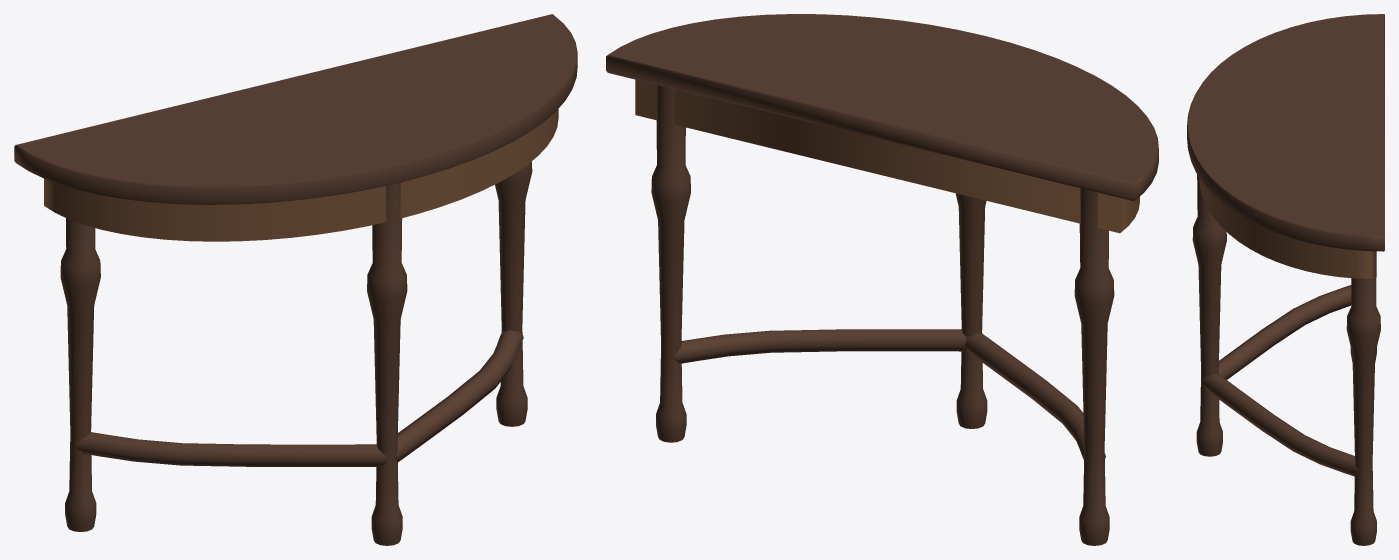
The model's file is rpg-mansion-half-moon-console-01.glb.
3 views of the same model, side by side, from view 1: azimuth 30°, elevation 25°; view 2: azimuth 150°, elevation 25°; view 3: azimuth 270°, elevation 25° (orthographic). The views are drawn at different scales.
Visible parts, largest first — view 1: rpg-mansion-half-moon-console-01; view 2: rpg-mansion-half-moon-console-01; view 3: rpg-mansion-half-moon-console-01.
Boxes of the visible parts, x1=… form: rpg-mansion-half-moon-console-01: x1=14, y1=14, x2=577, y2=545; rpg-mansion-half-moon-console-01: x1=606, y1=14, x2=1158, y2=545; rpg-mansion-half-moon-console-01: x1=1187, y1=14, x2=1384, y2=545.
Size of the model in its own units: 1.2 by 0.82 by 0.45.
